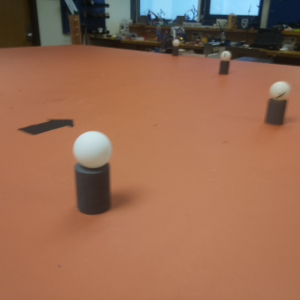obstacle: (72, 131, 114, 215), (267, 81, 288, 127), (219, 50, 229, 75), (172, 39, 181, 55)
